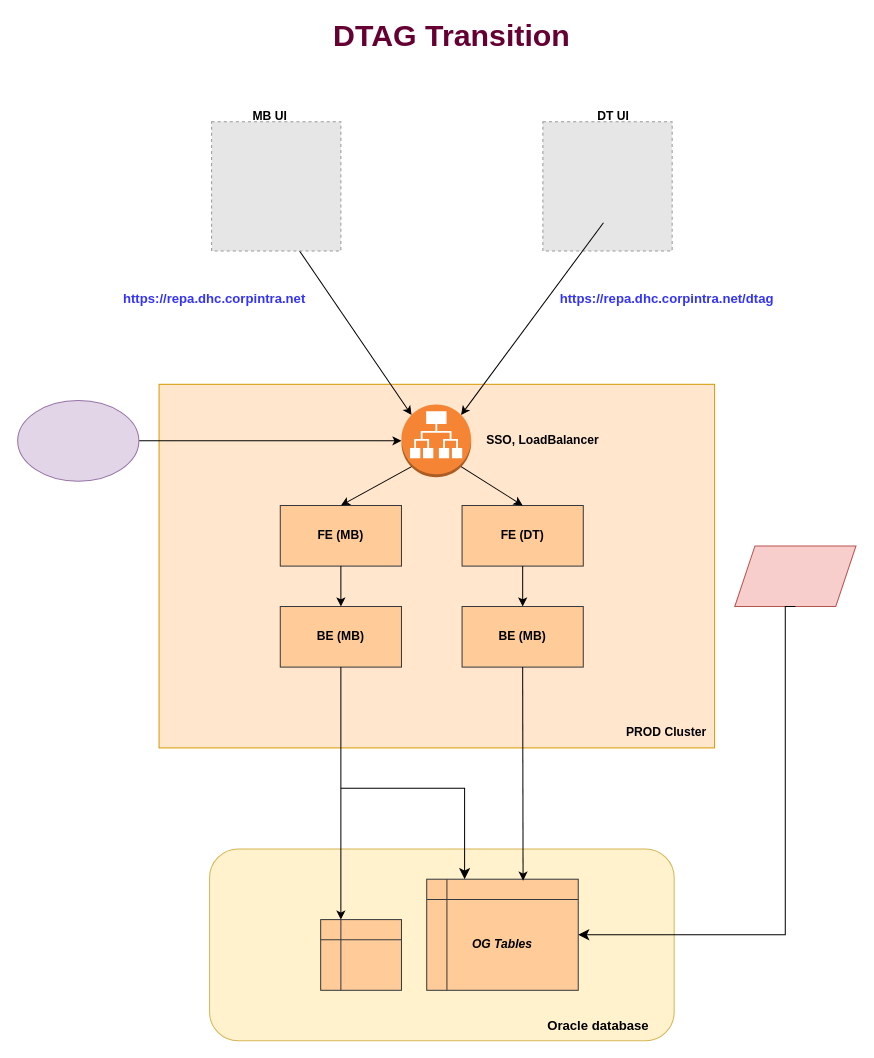
This 874x1058 diagram has some shape labels left out. Grey dashed boxes stand in for pictures. Here are the shapes that lost their labels. From the top down, the box of each, then its label:
(17, 399, 139, 481): Alice
(734, 545, 856, 607): RUM
(320, 919, 401, 990): New Vals
